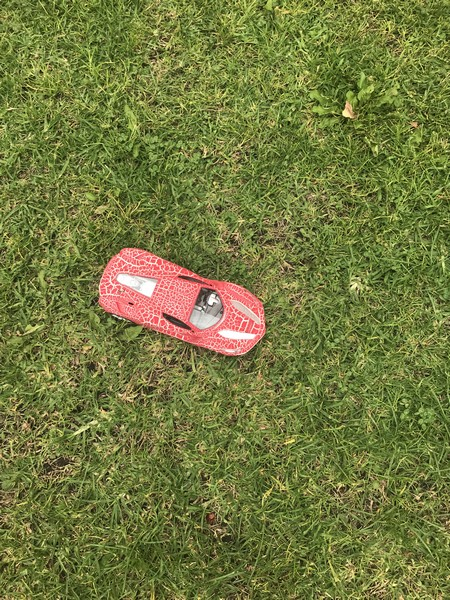RC: (96, 246, 268, 358)
